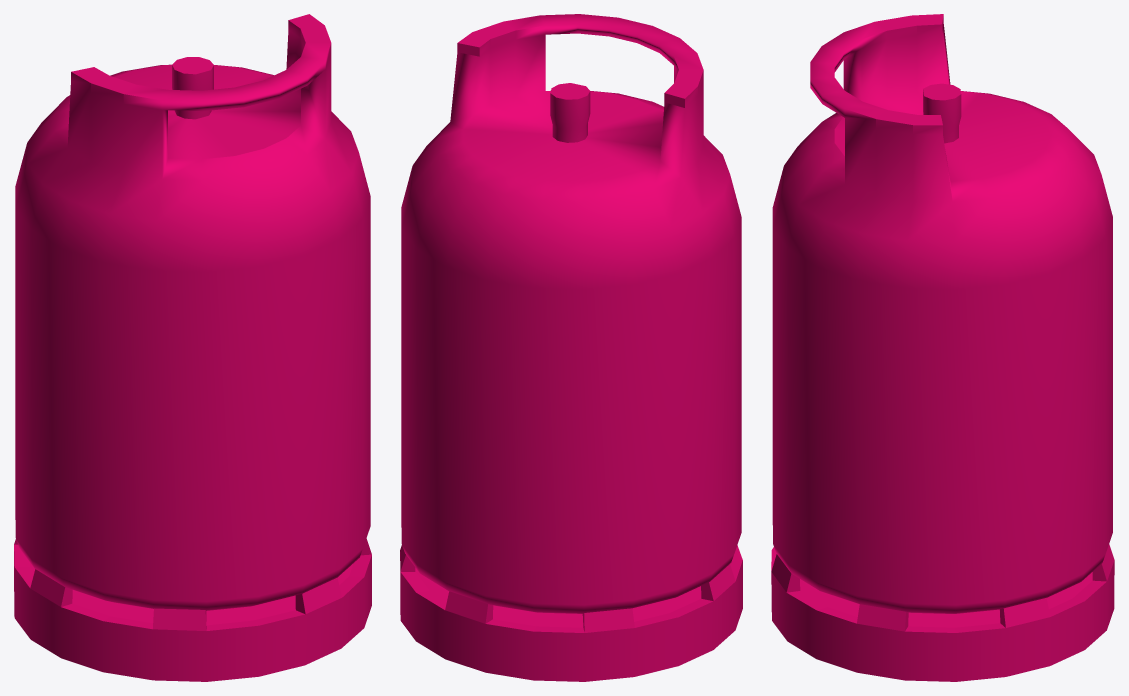
File: Gas_Cylinder_01_Lod0.fbx
The picture shows the model from 3 angles, left to right: view 1: azimuth 30°, elevation 25°; view 2: azimuth 150°, elevation 25°; view 3: azimuth 270°, elevation 25°; orthographic projection. The views are drawn at different scales.
Parts seen in each view (by area): view 1: Gas_Cylinder_01_Lod0; view 2: Gas_Cylinder_01_Lod0; view 3: Gas_Cylinder_01_Lod0.
Boxes of the visible parts, x1,y1,x2,y2 form: Gas_Cylinder_01_Lod0: (14, 14, 371, 681); Gas_Cylinder_01_Lod0: (400, 14, 742, 681); Gas_Cylinder_01_Lod0: (771, 14, 1114, 681).
Size of the model in its own units: 34.45 by 59.63 by 34.4.
